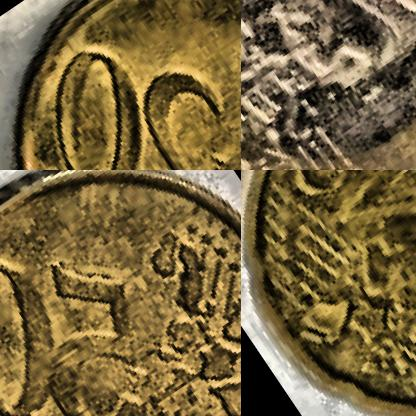coin: (0, 170, 240, 415), (241, 170, 415, 415), (0, 0, 240, 169), (241, 0, 415, 169)
